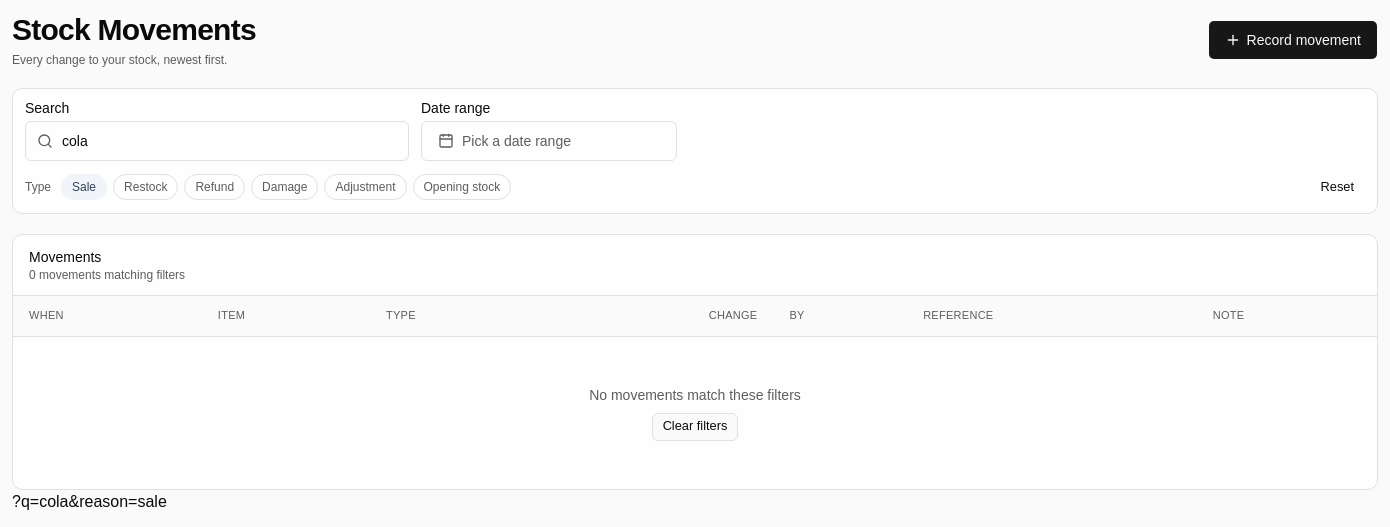
Test case: StockMovementPage › resets every filter and hides the filter-specific empty actions
Check: the text "No movements match these filters" is shown, box [589, 384, 801, 404]
Click the button "Reset" at (1337, 187), box [1310, 173, 1365, 201]
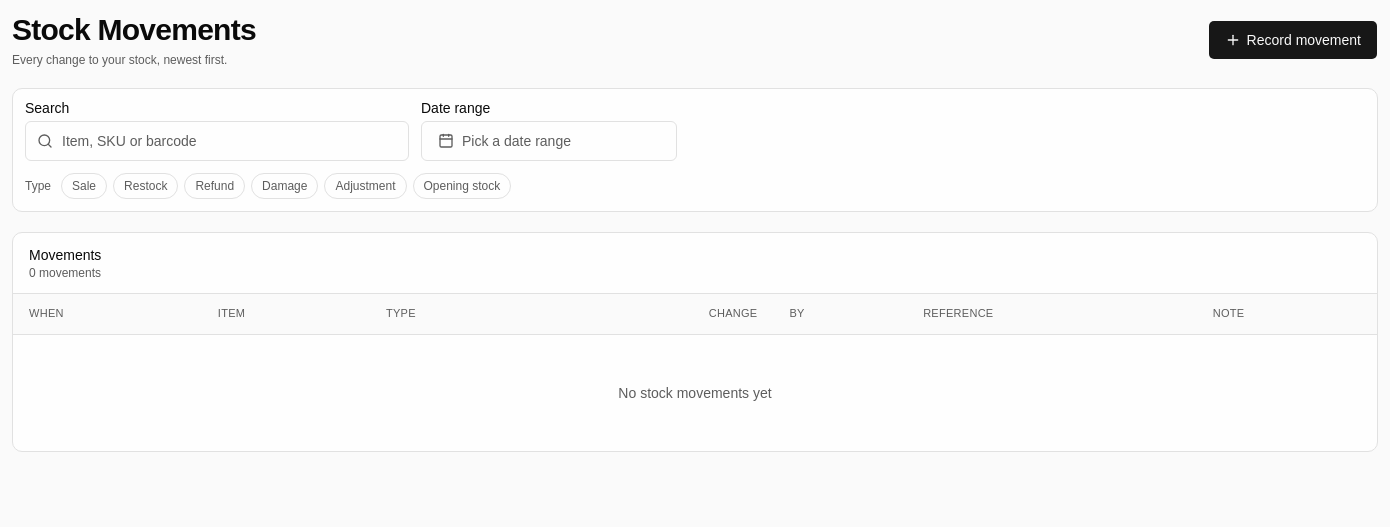
Check: the text "No stock movements yet" is shown, box [618, 382, 772, 402]
Check: the text "No movements match these filters" is gone
